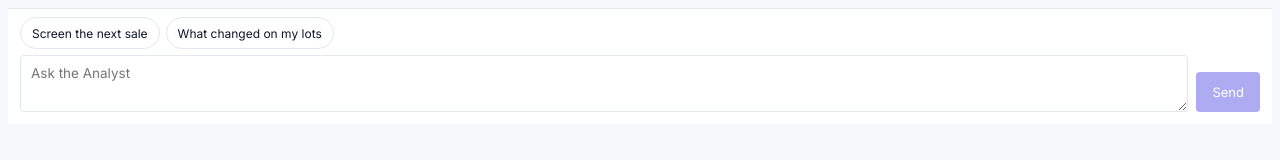
Test: AnalystComposer › spells out which sale is next when the server knows the date
The image size is (1280, 160).
Click the button with test id "composer-shortcut" showing "Screen the next sale": (90, 33) [20, 17, 160, 49]
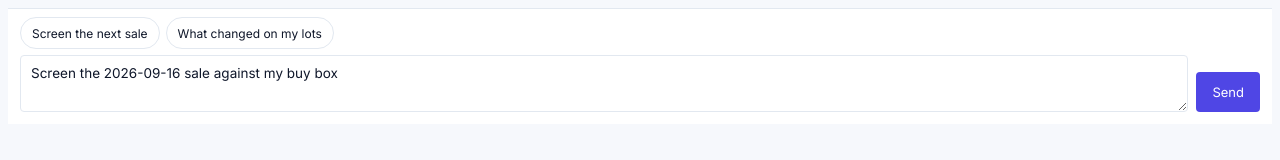
Now the text box with test id "composer-input" holds "Screen the 2026-09-16 sale against my buy box", box [20, 55, 1188, 112]
